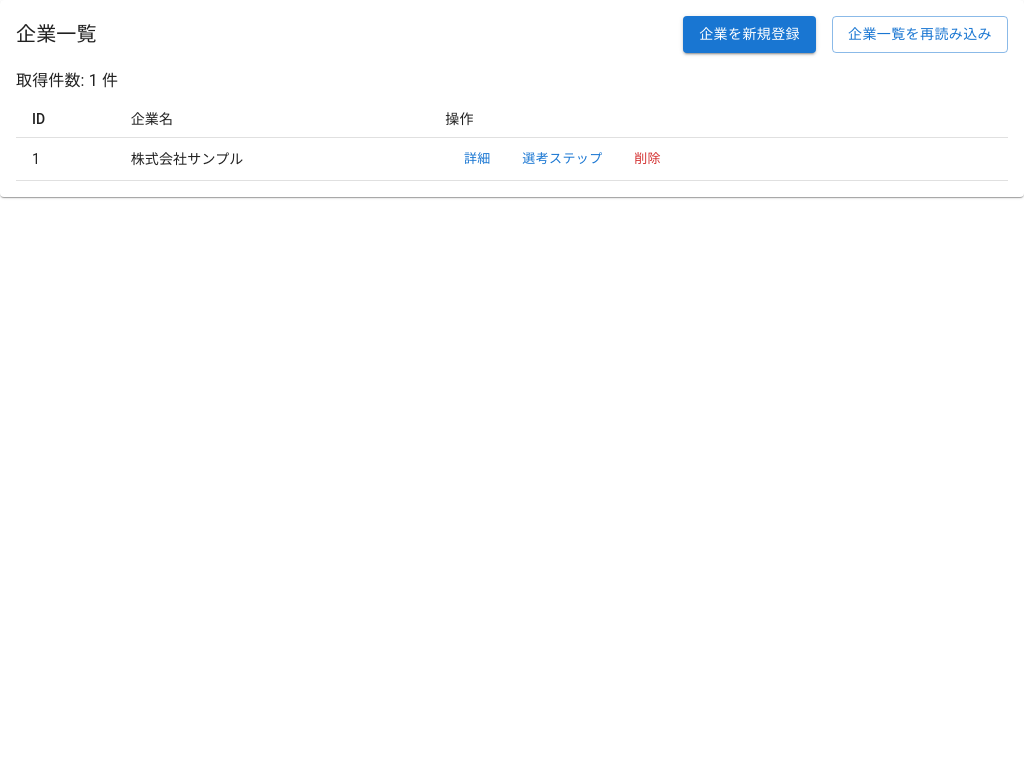
企業削除 › キャンセルすると削除されない
The width and height of the screenshot is (1024, 768).
Expected: the text "取得件数: 1 件" is shown, [16, 70, 118, 90]
Click the button with aria-label "企業「株式会社サンプル」を削除".
click(648, 159)  # box [616, 144, 680, 174]
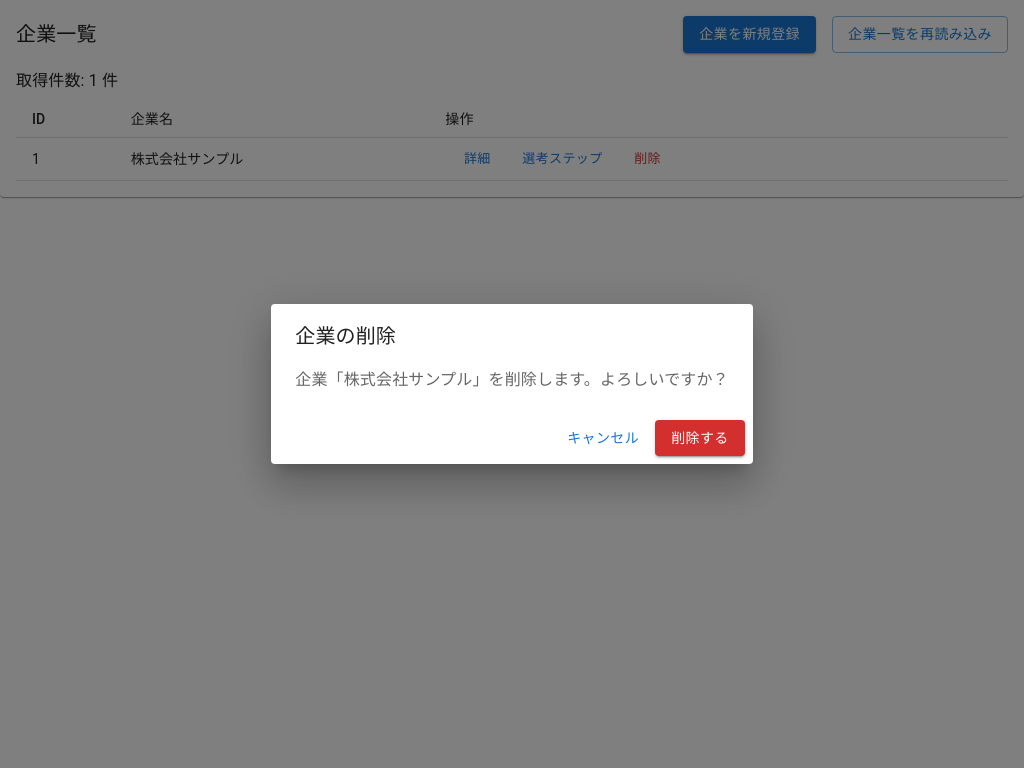
Click the button "キャンセル".
click(603, 438)  # box [559, 420, 647, 456]
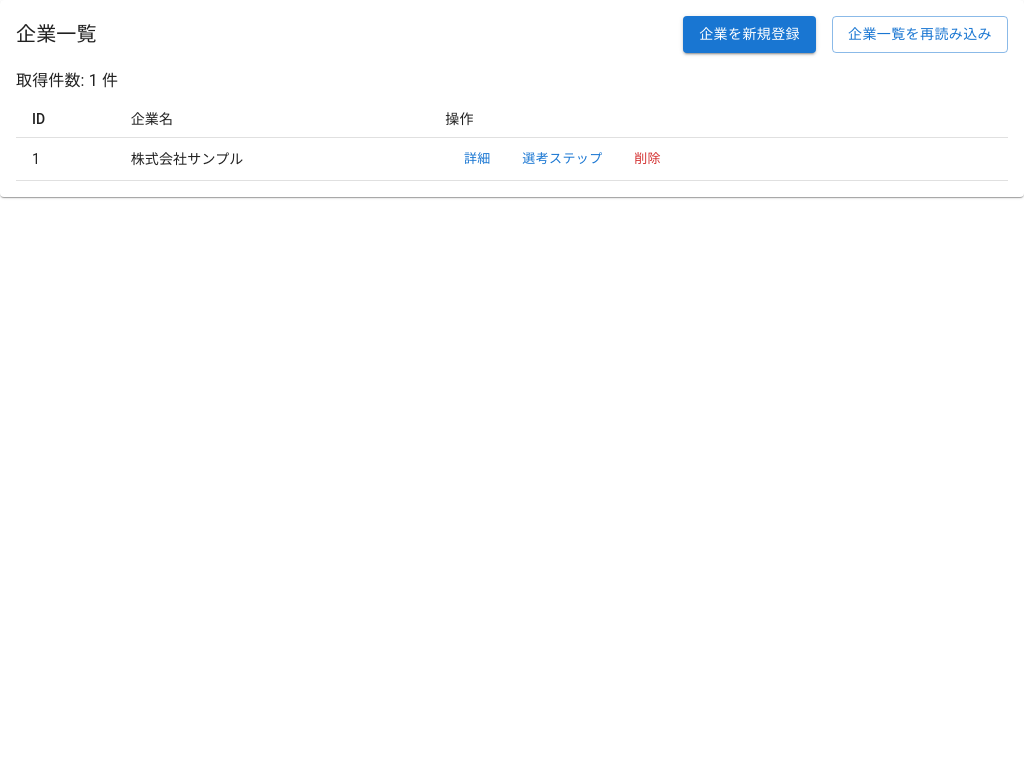
Expected: the text "株式会社サンプル" is shown, [115, 137, 429, 181]
Expected: the dialog is gone
